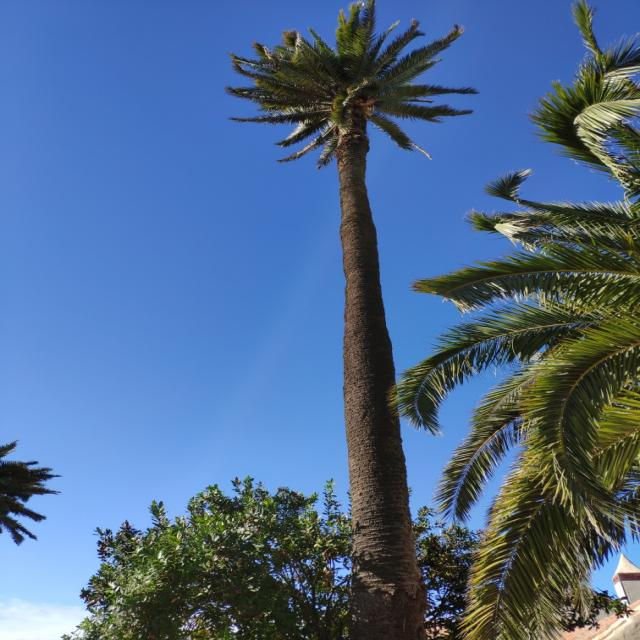Palm-Trees: (232, 0, 493, 639)
